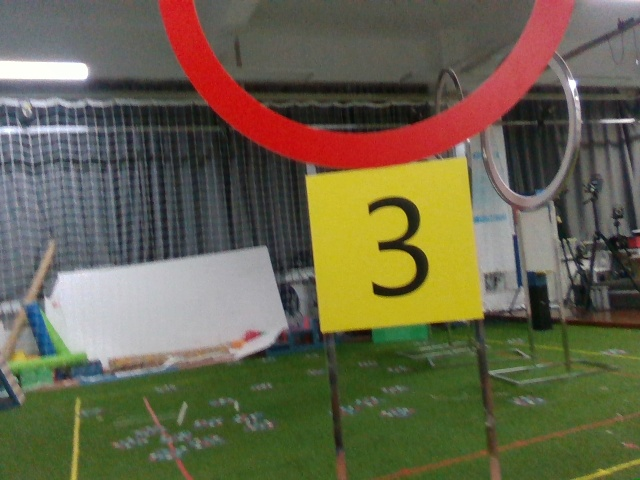target: (315, 180, 470, 314)
